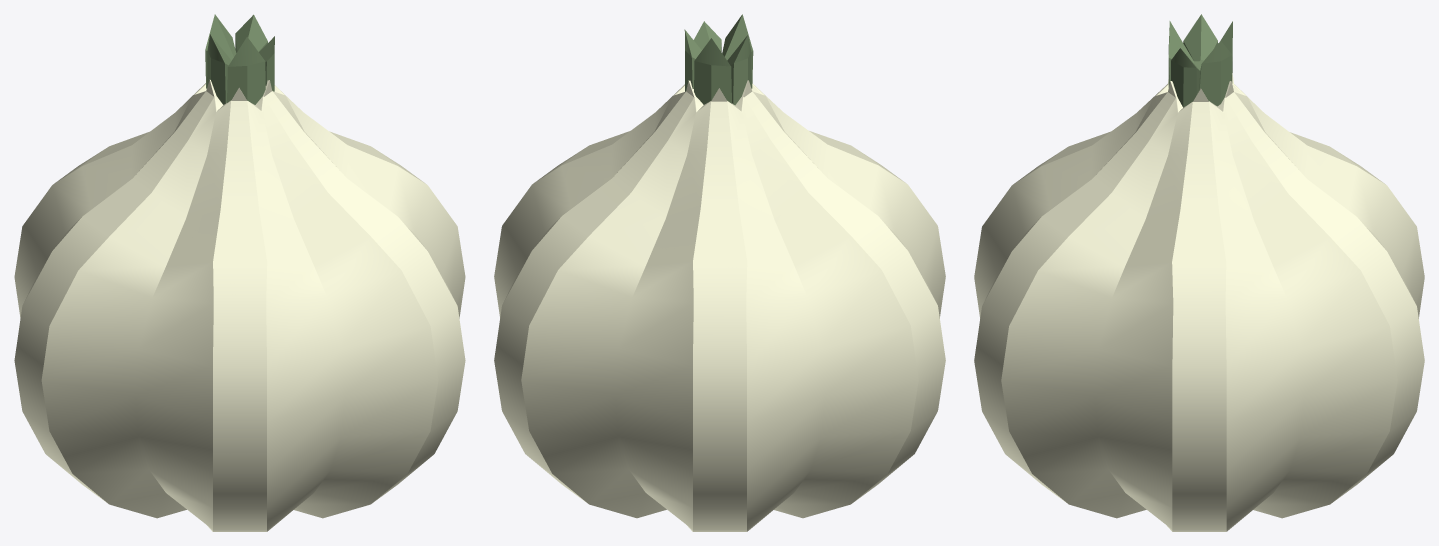
The model's file is Garlic.fbx.
3 views of the same model, side by side, from view 1: azimuth 30°, elevation 25°; view 2: azimuth 150°, elevation 25°; view 3: azimuth 270°, elevation 25° (orthographic).
Visible parts, largest first — view 1: Garlic, Stem; view 2: Garlic, Stem; view 3: Garlic, Stem.
Part boxes in pixels (x1,y1,x2,y2): Garlic: [14, 80, 465, 531]; Stem: [205, 14, 274, 104]; Garlic: [494, 80, 945, 531]; Stem: [684, 14, 753, 105]; Garlic: [974, 73, 1424, 531]; Stem: [1168, 14, 1232, 107].
Bounding box in the file's own units: 1.83 × 1.91 × 1.69.
